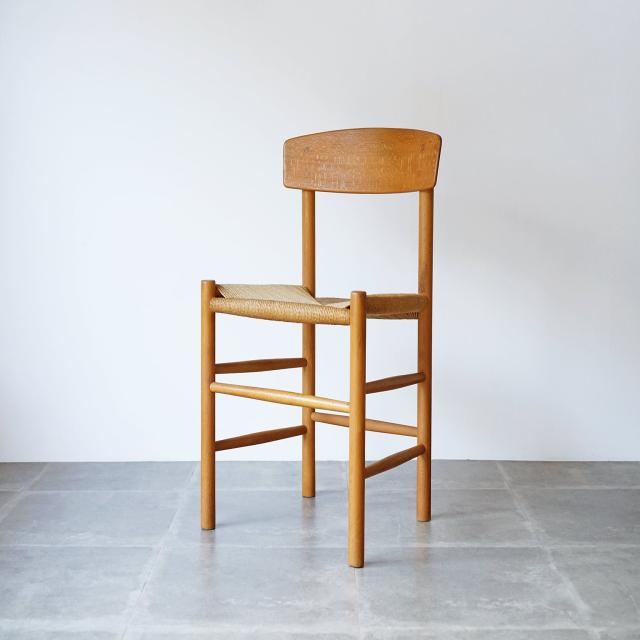chair vintage: (190, 122, 443, 571)
